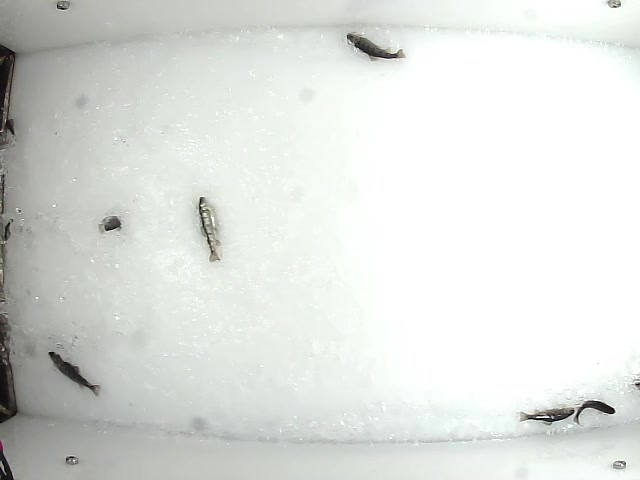fish: (47, 350, 106, 398), (345, 32, 407, 64), (197, 195, 224, 265), (515, 404, 575, 427), (572, 398, 616, 429), (98, 213, 131, 234)
